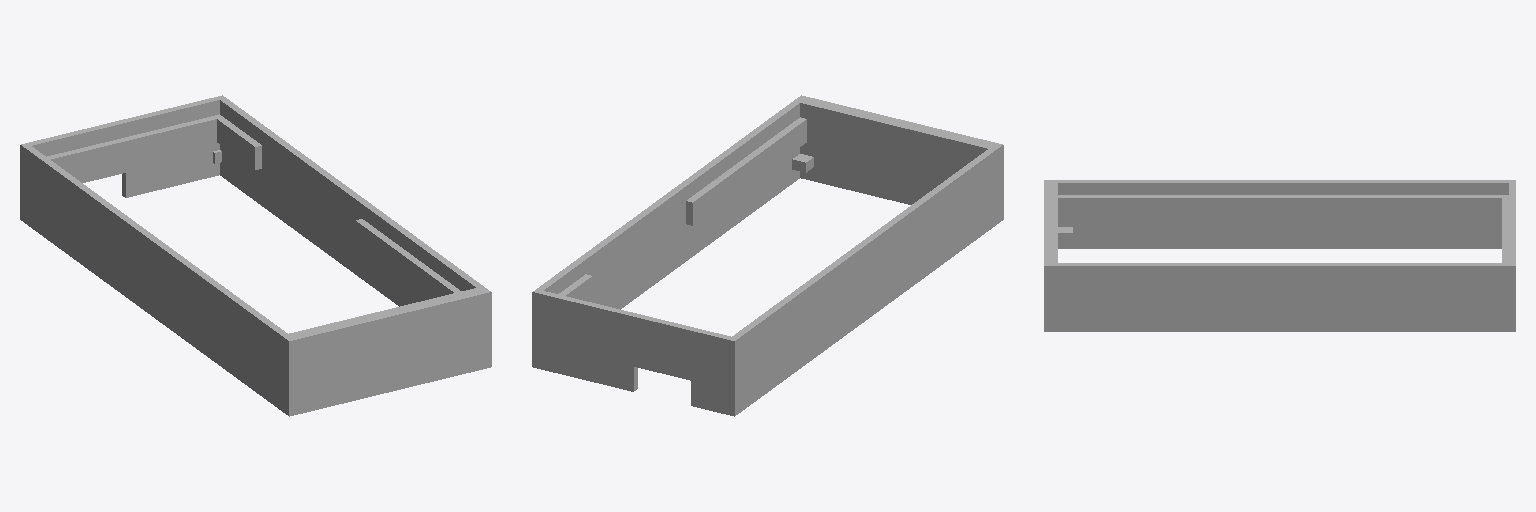
The robot description file, URDF, robot "root":
<?xml version='1.0' encoding='utf-8'?>
<robot name="root">
  <link name="link_001">
    <visual>
      <origin xyz="0 0 0" rpy="0 0 0" />
      <geometry>
        <mesh filename="2b42ca7fdfc98ff318860c5285fee666660a52ecd6c629b1df4ff4f085eadd1c_scale_000.stl" scale="1.0000E+00 1.0000E+00 1.0000E+00" />
      </geometry>
      <material name="">
        <color rgba="7.50E-01 7.50E-01 7.50E-01 1" />
      </material>
    </visual>
    <collision>
      <origin xyz="0 0 0" rpy="0 0 0" />
      <geometry>
        <mesh filename="2b42ca7fdfc98ff318860c5285fee666660a52ecd6c629b1df4ff4f085eadd1c_scale_000.stl" scale="1.0000E+00 1.0000E+00 1.0000E+00" />
      </geometry>
    </collision>
  </link>
</robot>

--- Facts derived from the render (not from the file) ---
The picture shows the robot from 3 angles, left to right: view 1: azimuth 30°, elevation 25°; view 2: azimuth 150°, elevation 25°; view 3: azimuth 270°, elevation 25°; orthographic projection.
Robot: root — 1 links, 0 joints (none); root link link_001; default pose: every joint at zero.
Visible links, largest first — view 1: link_001; view 2: link_001; view 3: link_001.
Boxes of the visible links, x1,y1,x2,y2 form: link_001: (20, 95, 491, 416); link_001: (532, 95, 1003, 416); link_001: (1044, 180, 1515, 331).
Size in the robot's own frame: 0.0522 by 0.12 by 0.0186 metres.
1 mesh visuals loaded from 1 distinct referenced files (1 binary STL).
